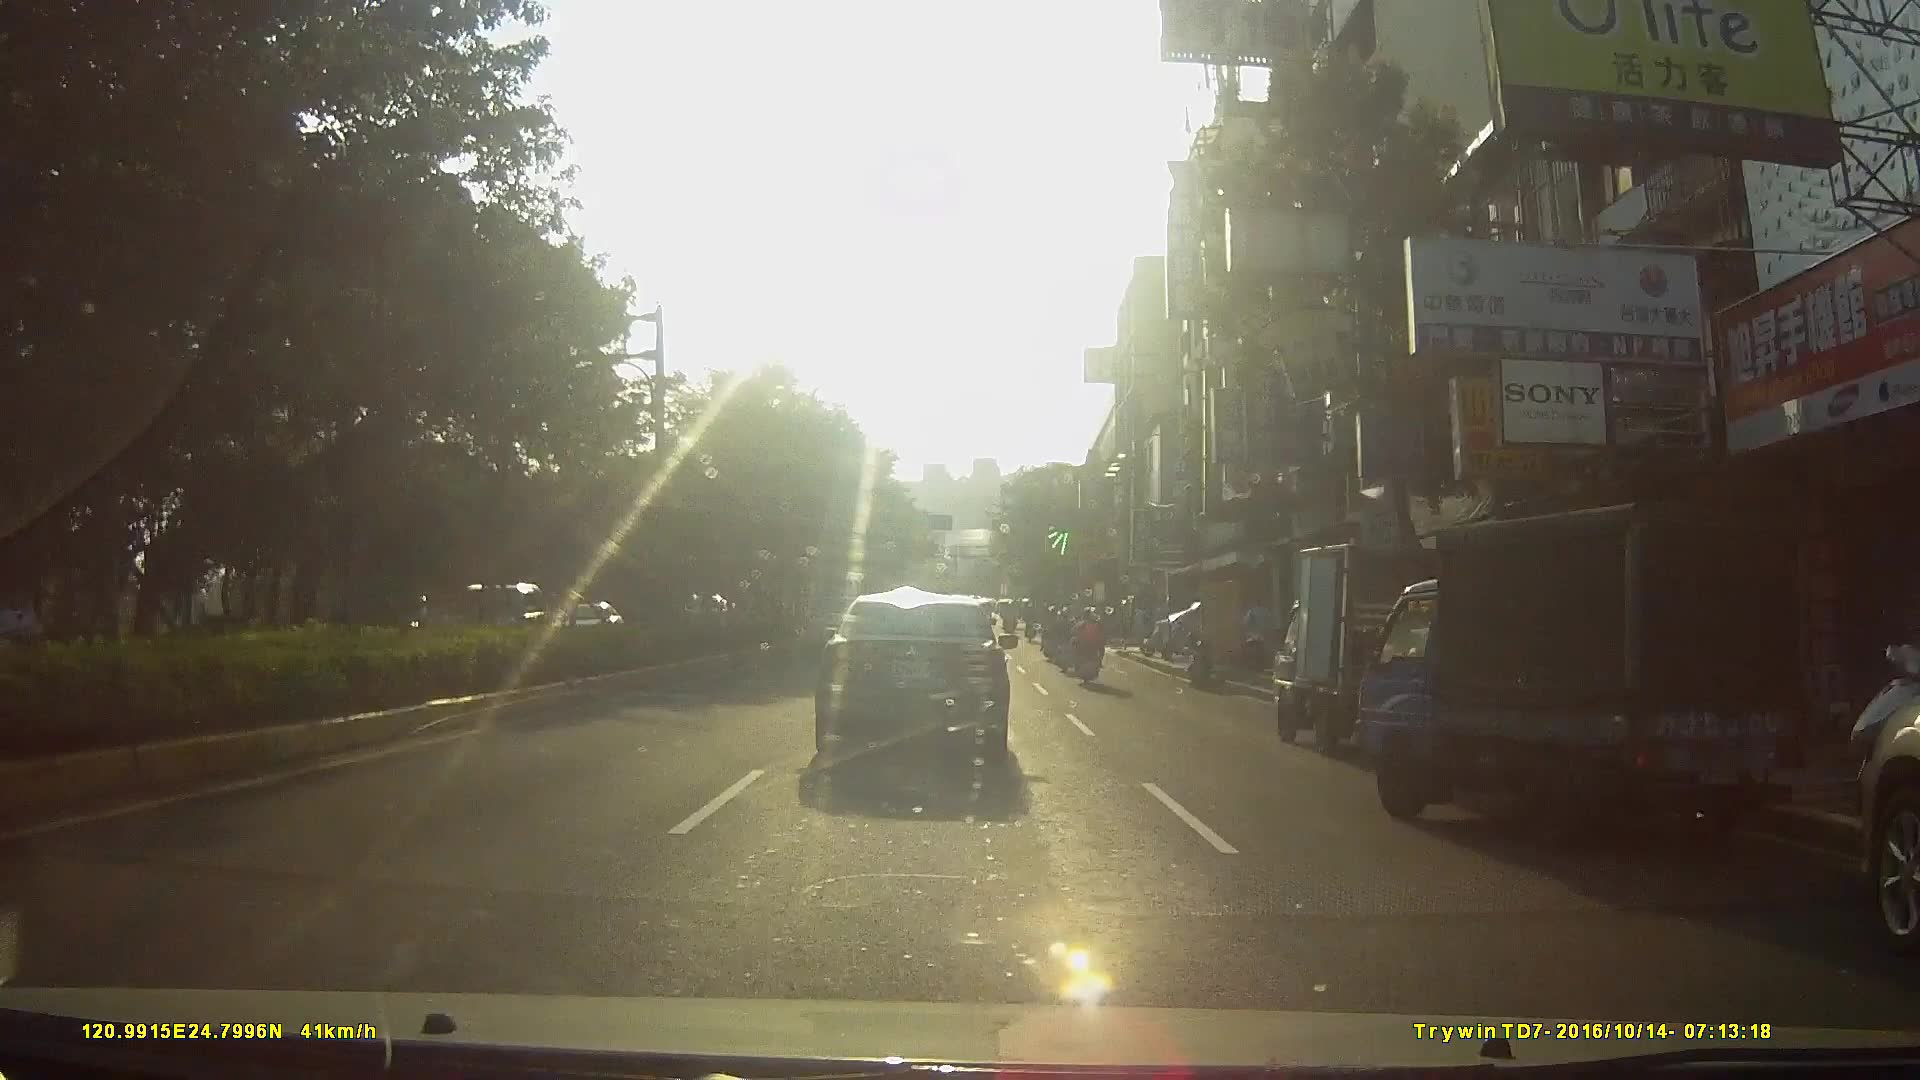rider: (1066, 607, 1108, 690), (1042, 606, 1062, 663)
vehicle: (1352, 495, 1807, 876), (1265, 530, 1515, 757), (812, 589, 1029, 788)
